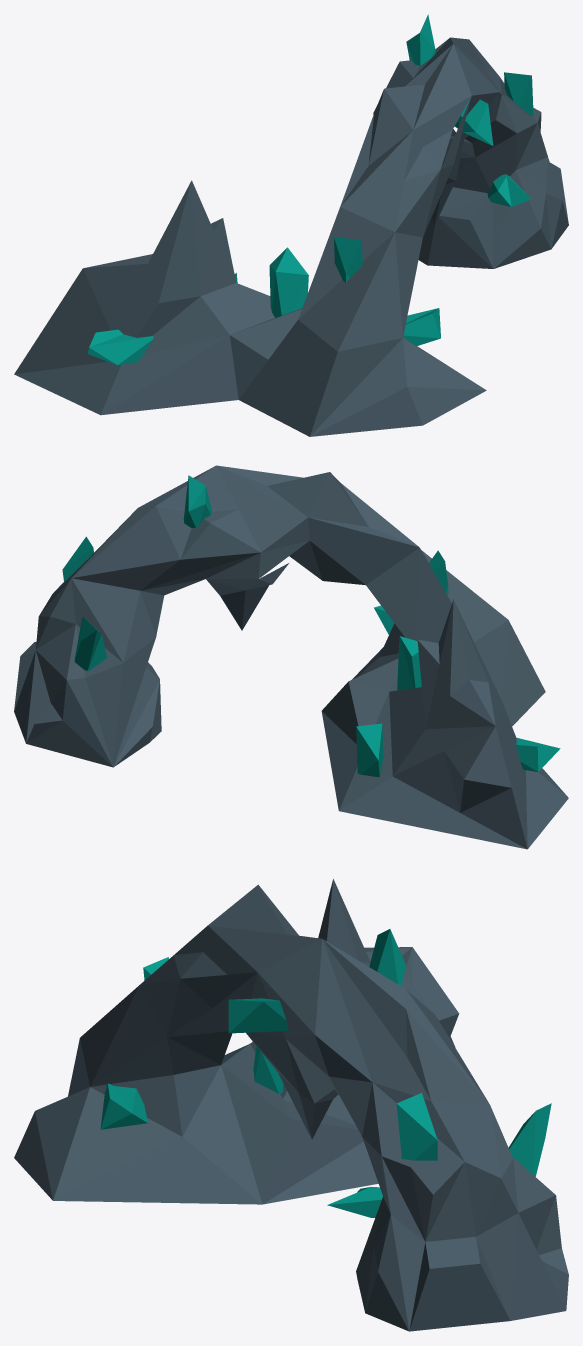
File: Stalactites_&_gems.glb
3 views of the same model, one above another, from view 1: azimuth 30°, elevation 25°; view 2: azimuth 150°, elevation 25°; view 3: azimuth 270°, elevation 25° (orthographic). The views are drawn at different scales.
Visible parts, largest first — view 1: Node; view 2: Node; view 3: Node.
Part boxes in pixels (<box>): Node: <box>14,14,568,436</box>; Node: <box>14,465,568,849</box>; Node: <box>14,879,568,1331</box>.
Bounding box in the file's own units: 2.42 × 1.24 × 1.75.
